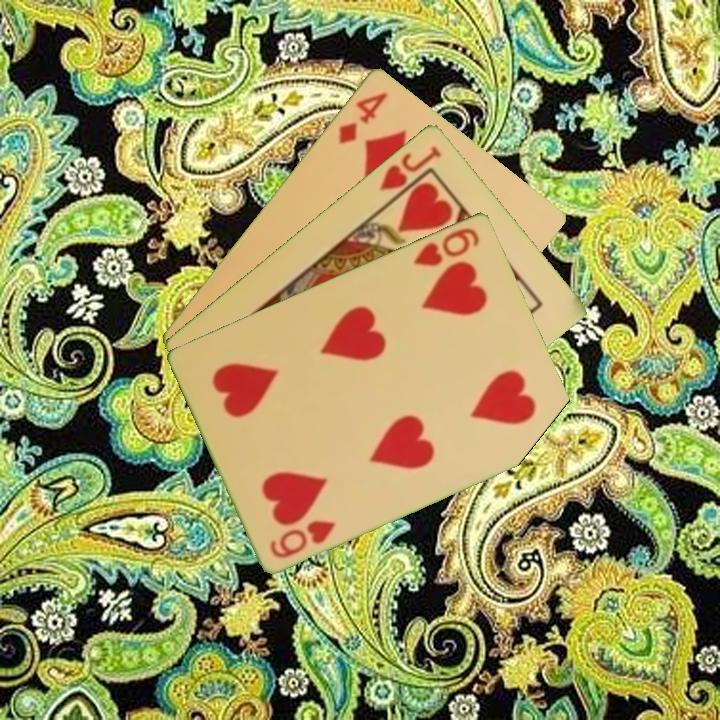4d: (334, 88, 391, 147)
6h: (410, 223, 483, 269), (266, 516, 339, 561)
Jh: (375, 141, 445, 193)
